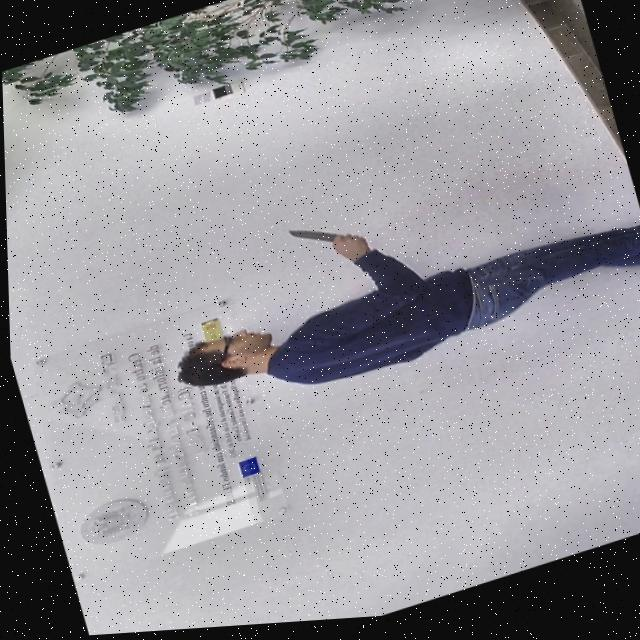knife: (282, 216, 348, 262)
